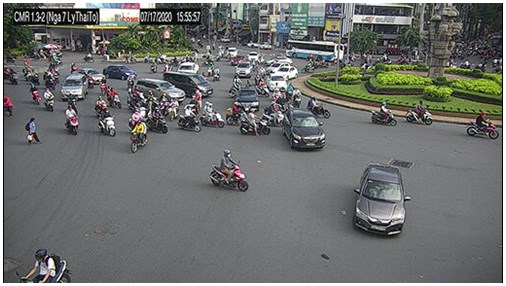di_bo: (25, 118, 42, 145)
xe_hoi: (354, 161, 407, 236), (282, 108, 324, 151), (134, 79, 184, 101), (235, 88, 259, 112), (62, 73, 85, 97), (102, 65, 136, 81), (268, 74, 288, 92), (233, 61, 253, 77), (275, 66, 297, 80), (266, 61, 291, 73), (177, 62, 200, 75), (246, 50, 258, 63), (226, 45, 234, 59)
xe_khach: (164, 71, 214, 97)
xe_may: (15, 249, 72, 283), (208, 149, 249, 193), (467, 112, 500, 140), (241, 109, 270, 138), (127, 118, 148, 154), (406, 100, 433, 126), (371, 101, 397, 125), (149, 106, 169, 136), (201, 101, 223, 128), (178, 107, 201, 132), (307, 96, 331, 119), (96, 108, 115, 137), (263, 102, 283, 128), (225, 102, 246, 126), (63, 105, 79, 135), (94, 95, 109, 118), (142, 91, 159, 111), (107, 86, 121, 109), (168, 96, 179, 122), (189, 89, 203, 109), (44, 88, 55, 111), (254, 79, 268, 97), (29, 83, 40, 105), (159, 93, 169, 116), (49, 65, 61, 83), (43, 69, 54, 88), (293, 87, 302, 108), (67, 92, 77, 110), (30, 68, 39, 85), (9, 68, 18, 84), (87, 73, 95, 89), (99, 77, 107, 93), (126, 72, 133, 89), (213, 65, 220, 82)
xe_tai: (285, 40, 344, 61)
